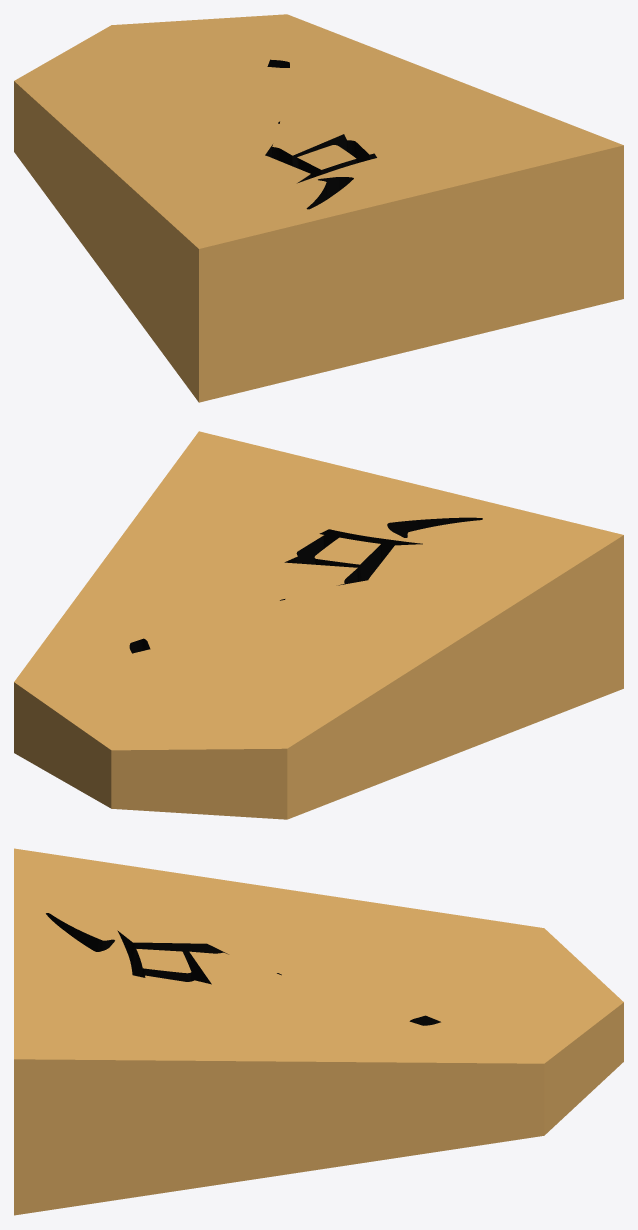
3 renders of one model, top to bottom at view 1: azimuth 30°, elevation 25°; view 2: azimuth 150°, elevation 25°; view 3: azimuth 270°, elevation 25°, orthographic.
Visible parts, largest first — view 1: 平面.001; view 2: 平面.001; view 3: 平面.001.
Part boxes in pixels (x1,y1,x2,y2): 平面.001: (14, 14, 623, 402); 平面.001: (14, 431, 623, 819); 平面.001: (14, 848, 623, 1215).
Size of the model in its own units: 0.022 by 0.0076 by 0.0269.
